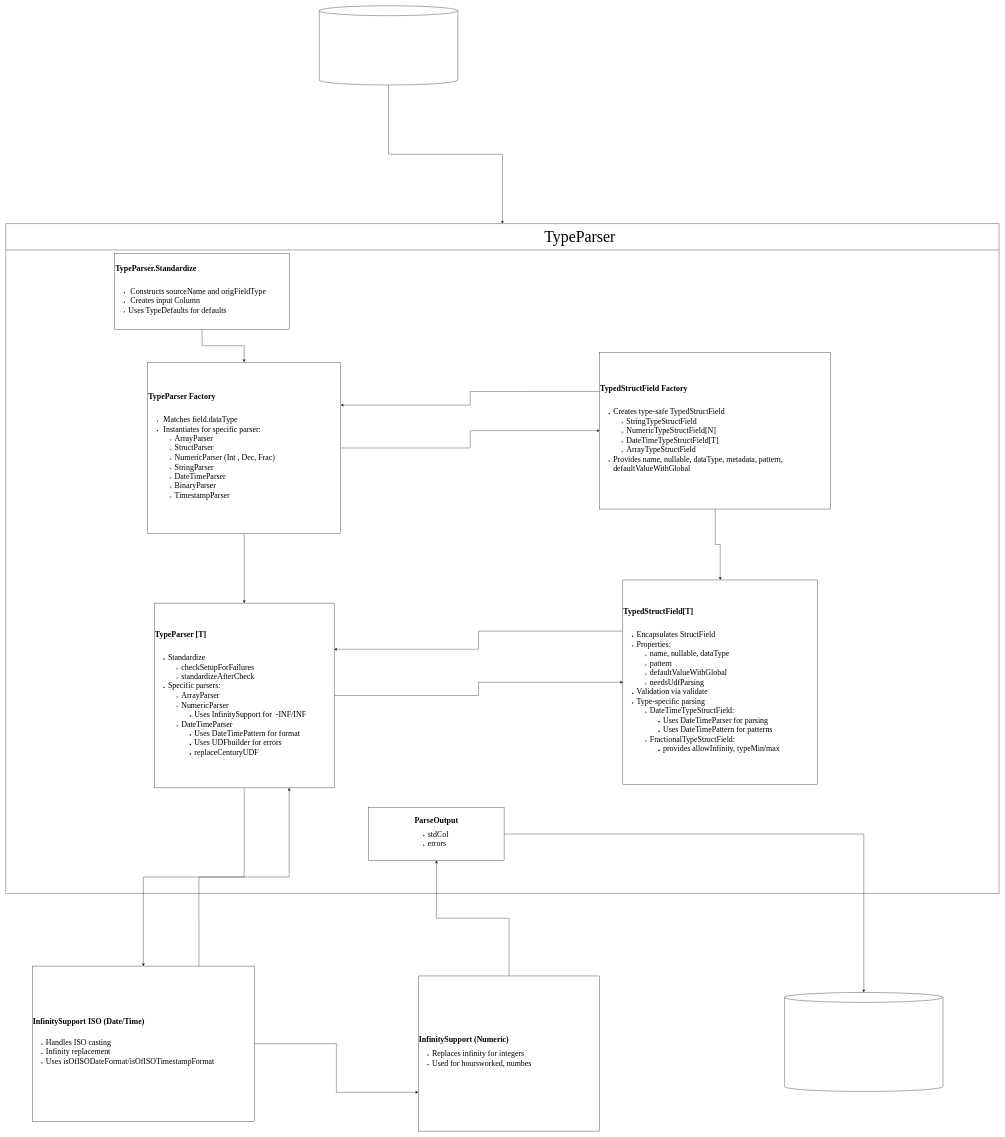
Some shapes in this 1005 by 1137 pixel diagram are drawn without their labels. The centre of each missing label's shape, as x and y in pixels:
"Input DataFrame (origSchema)" goes at pixel 388 45.
"Output Dataframe - Standardized columns with target schema - Errors columns" goes at pixel 863 1041.
